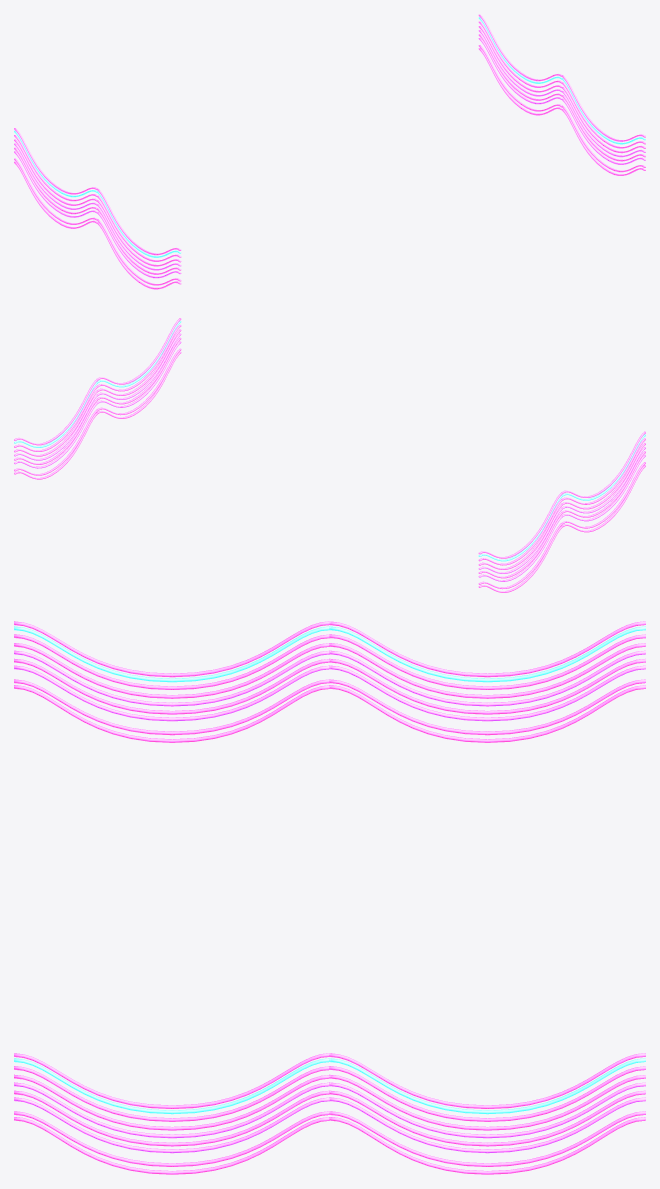
Rendered from Cable_Lights.glb.
3 views of the same model, one above another, from view 1: azimuth 30°, elevation 25°; view 2: azimuth 150°, elevation 25°; view 3: azimuth 270°, elevation 25° (orthographic). The views are drawn at different scales.
Visible parts, largest first — view 1: Cable Light.021, Cable Light.034, Cable Light.033, Cable Light.029, Cable Light.018, Cable Light.027, Cable Light.031, Cable Light.022, Cable Light.024, Cable Light.025, Cable Light.020, Cable Light.030 (+6 smaller); view 2: Cable Light.025, Cable Light.027, Cable Light.024, Cable Light.030, Cable Light.018, Cable Light.020, Cable Light.031, Cable Light.022, Cable Light.029, Cable Light.033, Cable Light.034, Cable Light.021 (+6 smaller); view 3: Cable Light.021, Cable Light.025, Cable Light.030, Cable Light.018, Cable Light.019, Cable Light.023, Cable Light.026, Cable Light.031, Cable Light.033, Cable Light.035, Cable Light.022, Cable Light.024 (+6 smaller).
Part boxes in pixels (x1,y1,x2,y2): Cable Light.021: [14, 139, 181, 266]; Cable Light.034: [478, 34, 645, 161]; Cable Light.033: [478, 45, 645, 172]; Cable Light.029: [478, 21, 645, 148]; Cable Light.018: [14, 128, 181, 255]; Cable Light.027: [478, 14, 645, 141]; Cable Light.031: [478, 30, 645, 157]; Cable Light.022: [14, 143, 181, 270]; Cable Light.024: [14, 158, 181, 285]; Cable Light.025: [14, 147, 181, 274]; Cable Light.020: [14, 135, 181, 261]; Cable Light.030: [478, 26, 645, 153]; Cable Light.025: [478, 451, 645, 578]; Cable Light.027: [14, 318, 181, 445]; Cable Light.024: [478, 462, 645, 589]; Cable Light.030: [14, 329, 181, 456]; Cable Light.018: [478, 431, 645, 558]; Cable Light.020: [478, 438, 645, 565]; Cable Light.031: [14, 333, 181, 460]; Cable Light.022: [478, 447, 645, 573]; Cable Light.029: [14, 325, 181, 451]; Cable Light.033: [14, 348, 181, 475]; Cable Light.034: [14, 337, 181, 464]; Cable Light.021: [478, 443, 645, 569]; Cable Light.021: [14, 643, 645, 698]; Cable Light.025: [14, 658, 645, 714]; Cable Light.030: [14, 1074, 645, 1130]; Cable Light.018: [14, 621, 645, 677]; Cable Light.019: [14, 626, 645, 682]; Cable Light.023: [14, 665, 645, 721]; Cable Light.026: [14, 685, 645, 742]; Cable Light.031: [14, 1082, 645, 1138]; Cable Light.033: [14, 1111, 645, 1166]; Cable Light.035: [14, 1117, 645, 1174]; Cable Light.022: [14, 650, 645, 706]; Cable Light.024: [14, 679, 645, 735].
Size of the model in its own units: 18 by 2.34 by 11.1.
